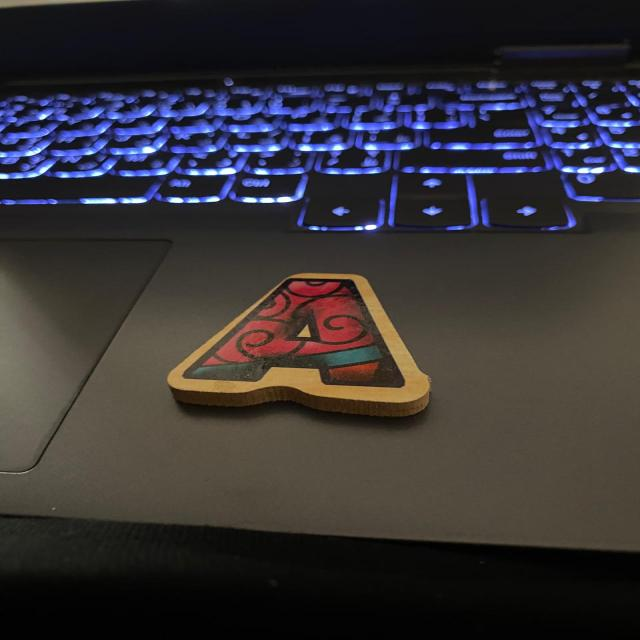A: (168, 273, 429, 416)
